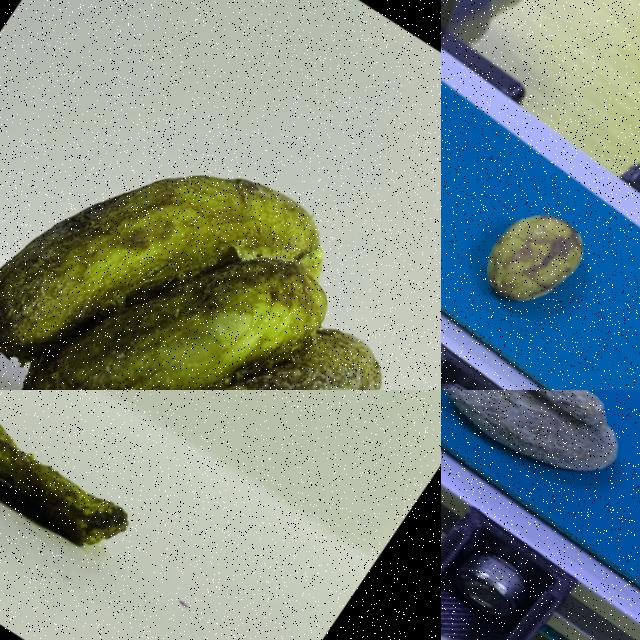Agglomerated_cocoabeans: (0, 13, 440, 389), (441, 390, 639, 572)
Fine_cocoabeans: (441, 143, 639, 385)
Flat_cocoabeans: (0, 390, 205, 606)
